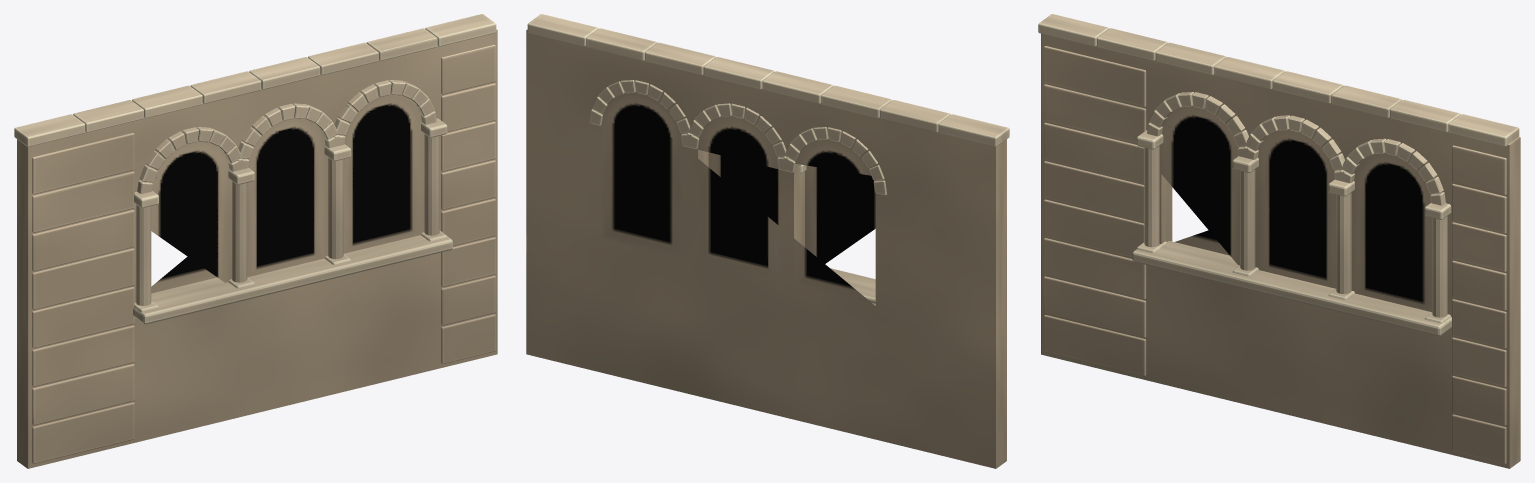
Rendered from 03_Arched_Window_Wall.fbx.
3 renders of one model, left to right at view 1: azimuth 30°, elevation 25°; view 2: azimuth 150°, elevation 25°; view 3: azimuth 330°, elevation 25°, orthographic.
Parts seen in each view (by area): view 1: 03_Arched_Window_Wall; view 2: 03_Arched_Window_Wall; view 3: 03_Arched_Window_Wall.
Boxes of the visible parts, left/top/right/bottom form: 03_Arched_Window_Wall: left=14, top=14, right=497, bottom=468; 03_Arched_Window_Wall: left=526, top=14, right=1009, bottom=468; 03_Arched_Window_Wall: left=1038, top=14, right=1520, bottom=468.
Size of the model in its own units: 602 by 406 by 56.5.
1 material, 1 textured.
